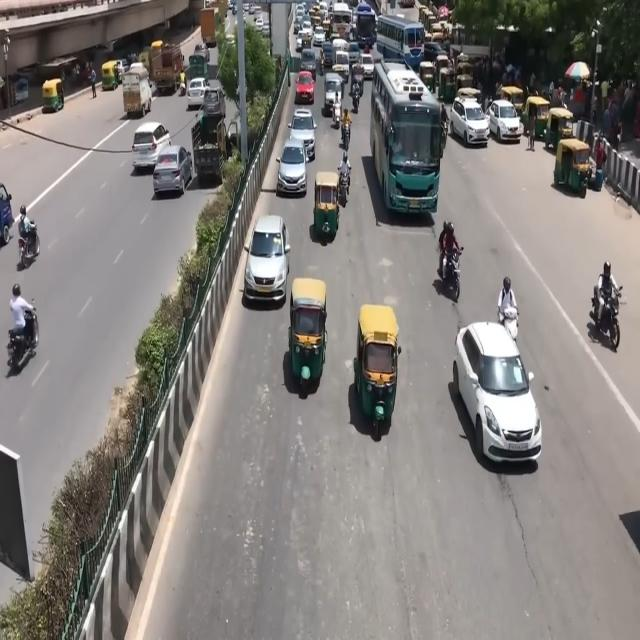auto: (353, 304, 401, 434), (291, 281, 329, 395), (553, 137, 593, 197), (312, 172, 340, 239), (544, 105, 575, 154), (522, 95, 552, 142), (42, 78, 64, 112), (500, 85, 524, 116), (187, 52, 209, 82), (418, 59, 436, 94), (101, 60, 120, 90), (138, 48, 152, 74)
bike-auto: (590, 282, 622, 351), (7, 285, 35, 362), (439, 240, 463, 300), (497, 275, 518, 335), (18, 205, 36, 252), (338, 150, 351, 200), (341, 106, 352, 148), (331, 96, 342, 129)
